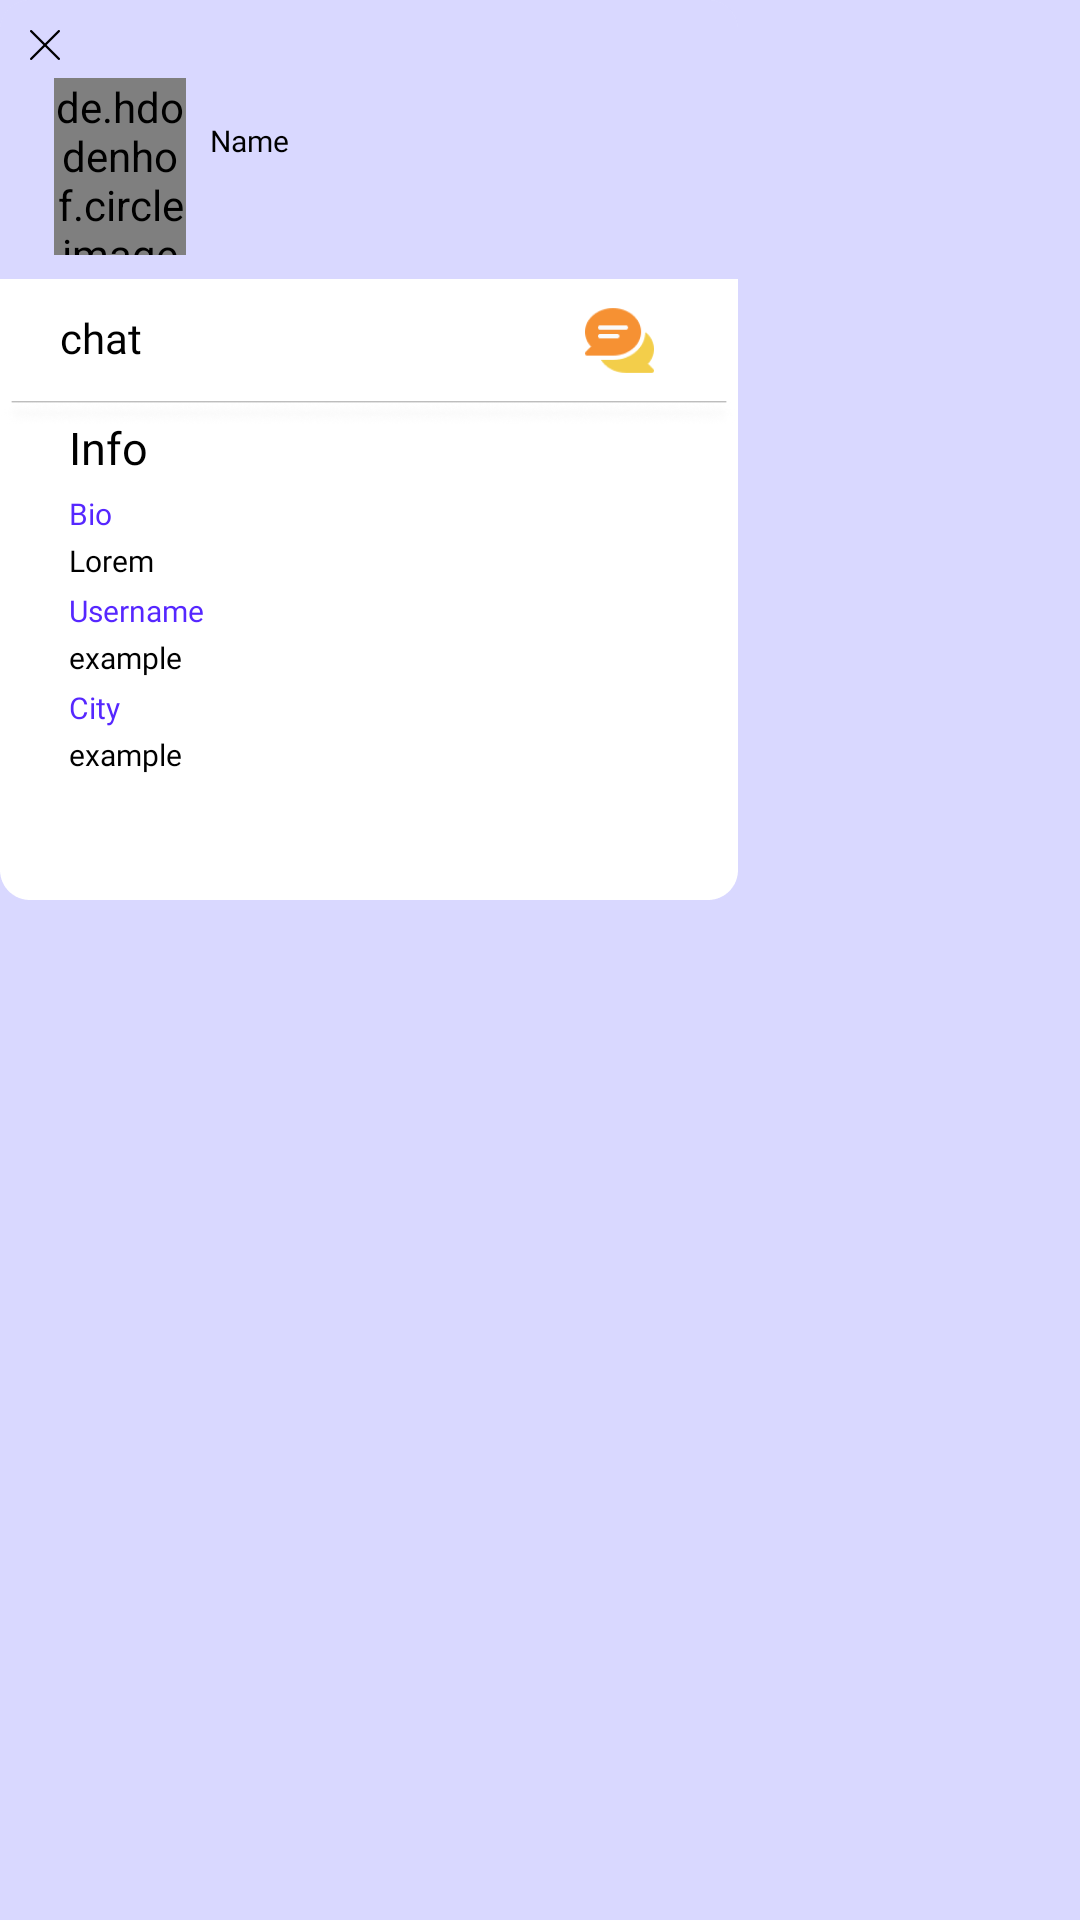

Icons on this 1080 × 1920 Android screen, each with its box as rect(x1, y1, x2, y2):
chaticon: rect(585, 308, 654, 373)
